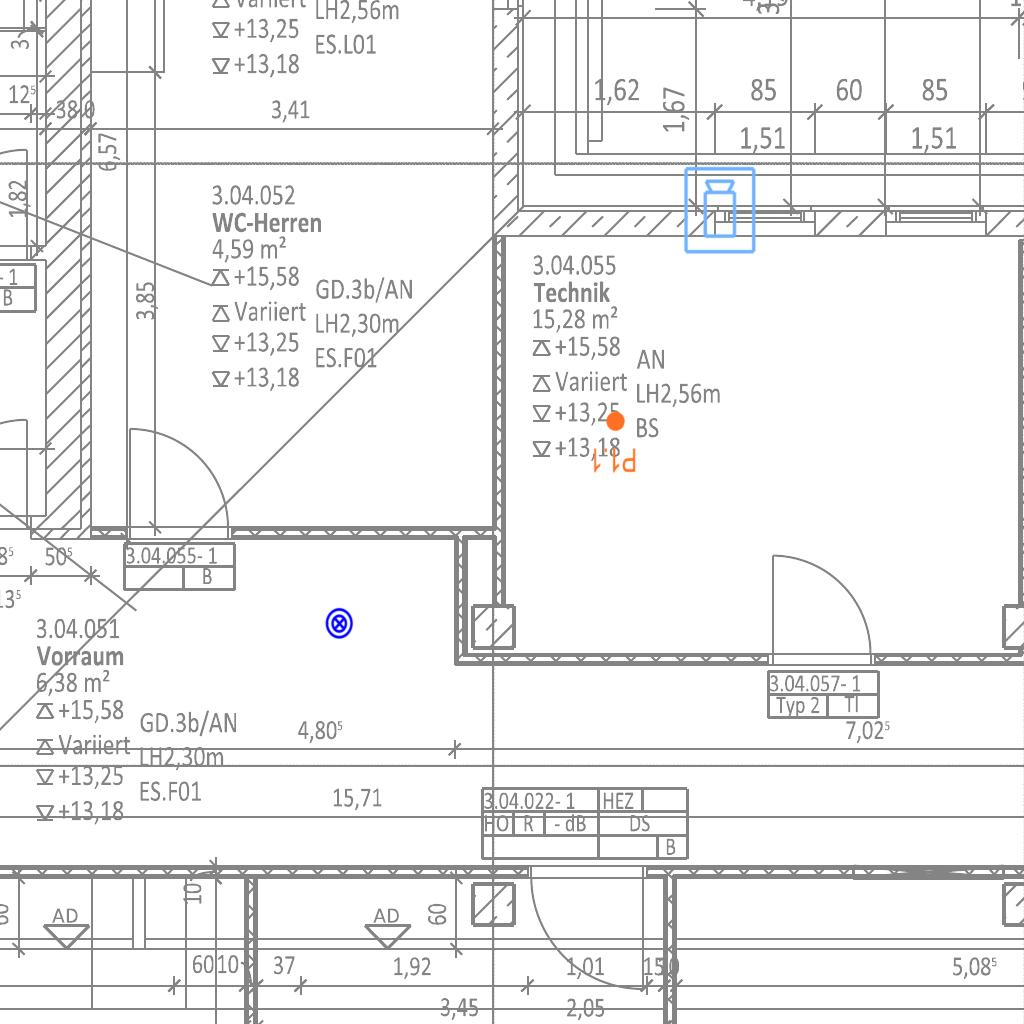Downlight_LED_Einbauleuchten_Flur: (591, 410, 637, 474)
KFO_Kamera_mit_Festobjektiv: (682, 165, 759, 256)
Taster_beleuchtet: (323, 607, 356, 640)
